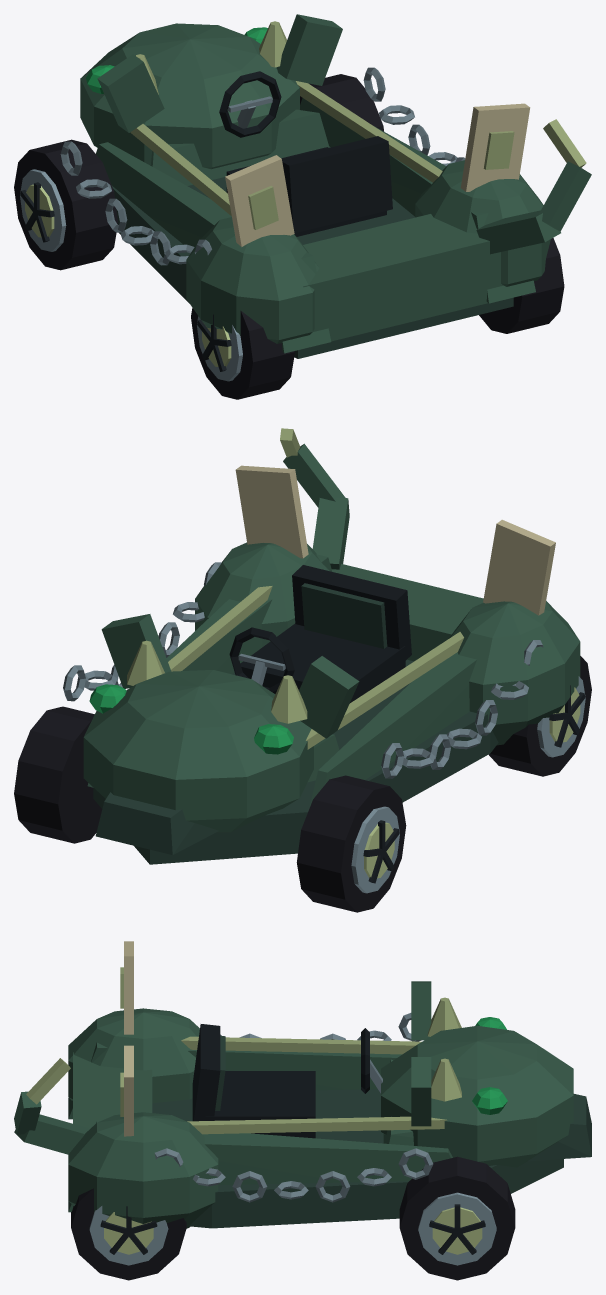
Rendered from kart.glb.
3 renders of one model, top to bottom at view 1: azimuth 30°, elevation 25°; view 2: azimuth 150°, elevation 25°; view 3: azimuth 270°, elevation 25°, orthographic. The views are drawn at different scales.
Visible parts, largest first — view 1: identity-beast-beast-sculpted-prow-and-haunches, identity-beast-driver-cockpit, wheel-front-left, identity-beast-motif-cards, wheel-rear-left, identity-beast-motif-tail, identity-beast-motif-chains, wheel-rear-right, wheel-front-right; view 2: identity-beast-beast-sculpted-prow-and-haunches, identity-beast-driver-cockpit, wheel-front-left, identity-beast-motif-cards, wheel-front-right, identity-beast-motif-chains, wheel-rear-left, identity-beast-motif-tail; view 3: identity-beast-beast-sculpted-prow-and-haunches, wheel-front-right, identity-beast-driver-cockpit, wheel-rear-right, identity-beast-motif-chains, identity-beast-motif-tail, identity-beast-motif-cards.
Part boxes in pixels (<box>): identity-beast-beast-sculpted-prow-and-haunches: <box>80,14,550,358</box>; identity-beast-driver-cockpit: <box>219,71,392,236</box>; wheel-front-left: <box>14,139,118,270</box>; identity-beast-motif-cards: <box>225,103,530,246</box>; wheel-rear-left: <box>191,308,294,399</box>; identity-beast-motif-tail: <box>476,119,591,254</box>; identity-beast-motif-chains: <box>60,67,465,265</box>; wheel-rear-right: <box>479,238,564,333</box>; wheel-front-right: <box>300,74,383,131</box>; identity-beast-beast-sculpted-prow-and-haunches: <box>83,542,580,864</box>; identity-beast-driver-cockpit: <box>229,565,411,703</box>; wheel-front-left: <box>296,775,406,912</box>; identity-beast-motif-cards: <box>235,465,555,615</box>; wheel-front-right: <box>14,706,102,843</box>; identity-beast-motif-chains: <box>63,562,543,778</box>; wheel-rear-left: <box>488,656,591,776</box>; identity-beast-motif-tail: <box>280,428,349,569</box>; identity-beast-beast-sculpted-prow-and-haunches: <box>68,981,591,1228</box>; wheel-front-right: <box>399,1156,515,1280</box>; identity-beast-driver-cockpit: <box>192,1024,382,1138</box>; wheel-rear-right: <box>71,1188,186,1280</box>; identity-beast-motif-chains: <box>154,1013,433,1202</box>; identity-beast-motif-tail: <box>14,1058,88,1154</box>; identity-beast-motif-cards: <box>120,941,133,1136</box>.
Size of the model in its own units: 2.01 by 1.3 by 3.2.
